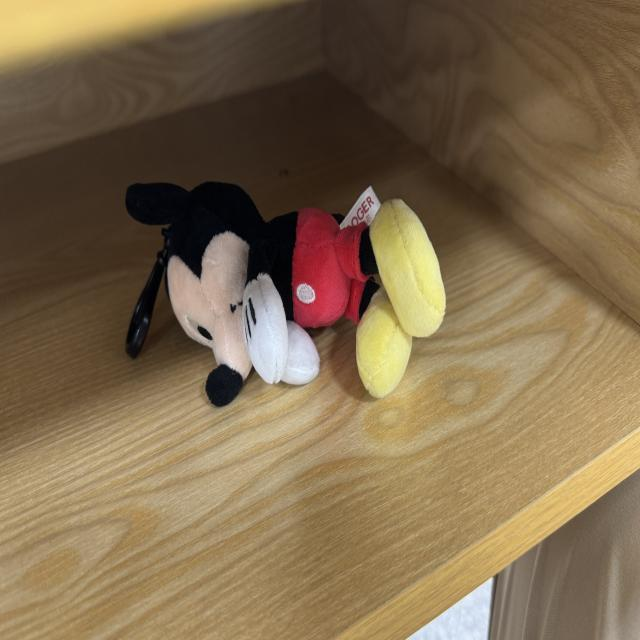mickey: (127, 183, 445, 405)
